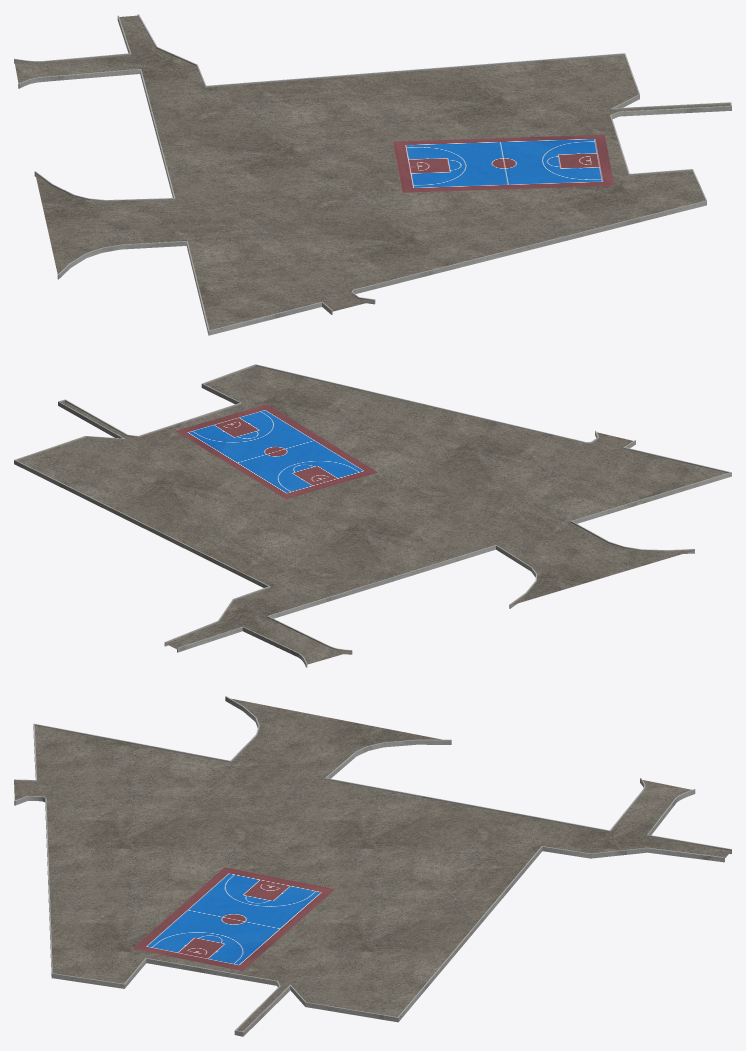
Rendered from road_p10_05.fbx.
3 renders of one model, top to bottom at view 1: azimuth 30°, elevation 25°; view 2: azimuth 150°, elevation 25°; view 3: azimuth 270°, elevation 25°, orthographic. The views are drawn at different scales.
Parts seen in each view (by area): view 1: road_p10_05; view 2: road_p10_05; view 3: road_p10_05.
Part boxes in pixels (x1=…): road_p10_05: x1=14, y1=14, x2=731, y2=335; road_p10_05: x1=14, y1=364, x2=731, y2=667; road_p10_05: x1=14, y1=696, x2=731, y2=1036.
Bounding box in the file's own units: 11163 × 70 × 10076.
